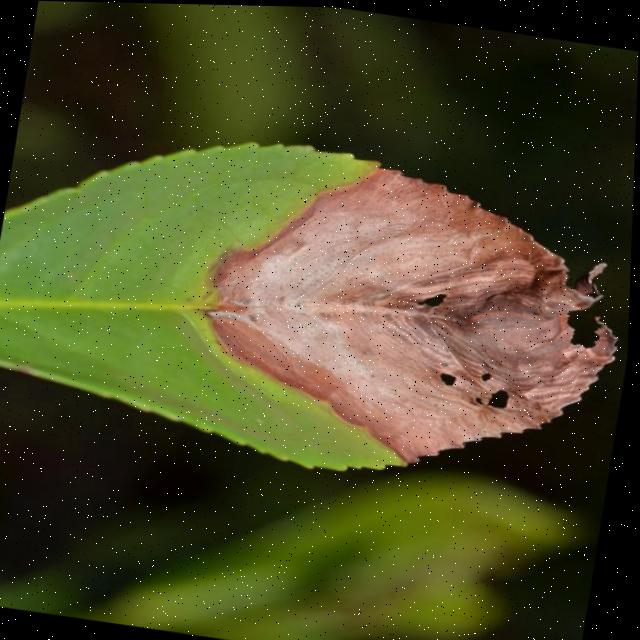Tea cloud leaf blight: (182, 144, 636, 488)
